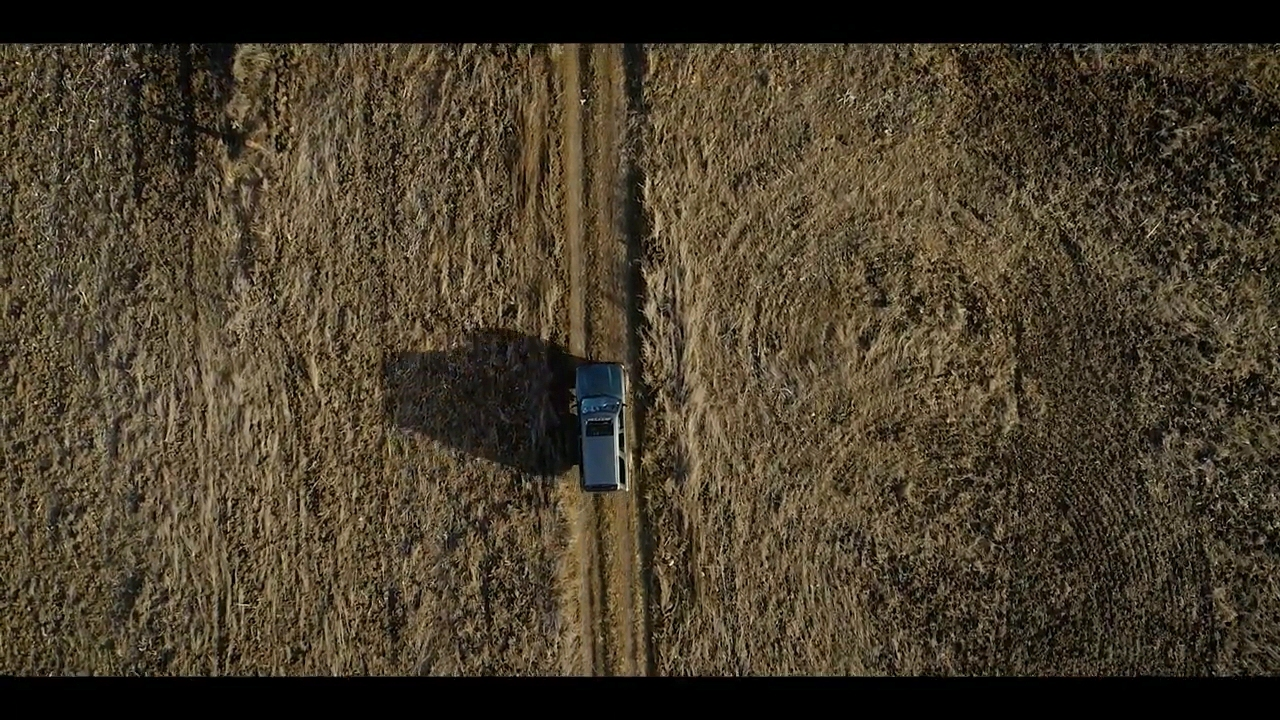araba: (572, 360, 630, 494)
